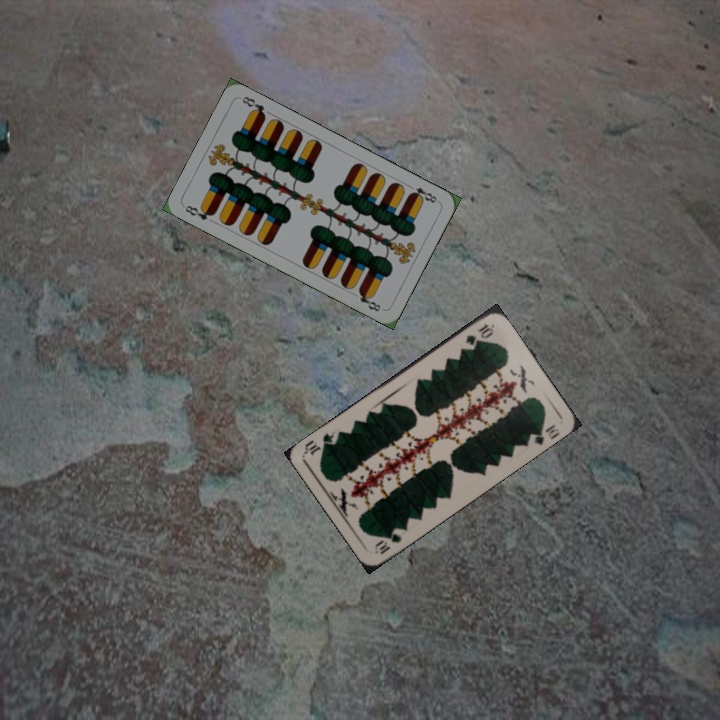E8: (404, 180, 441, 206), (181, 201, 217, 223)
G10: (461, 319, 496, 348), (370, 528, 404, 557)
